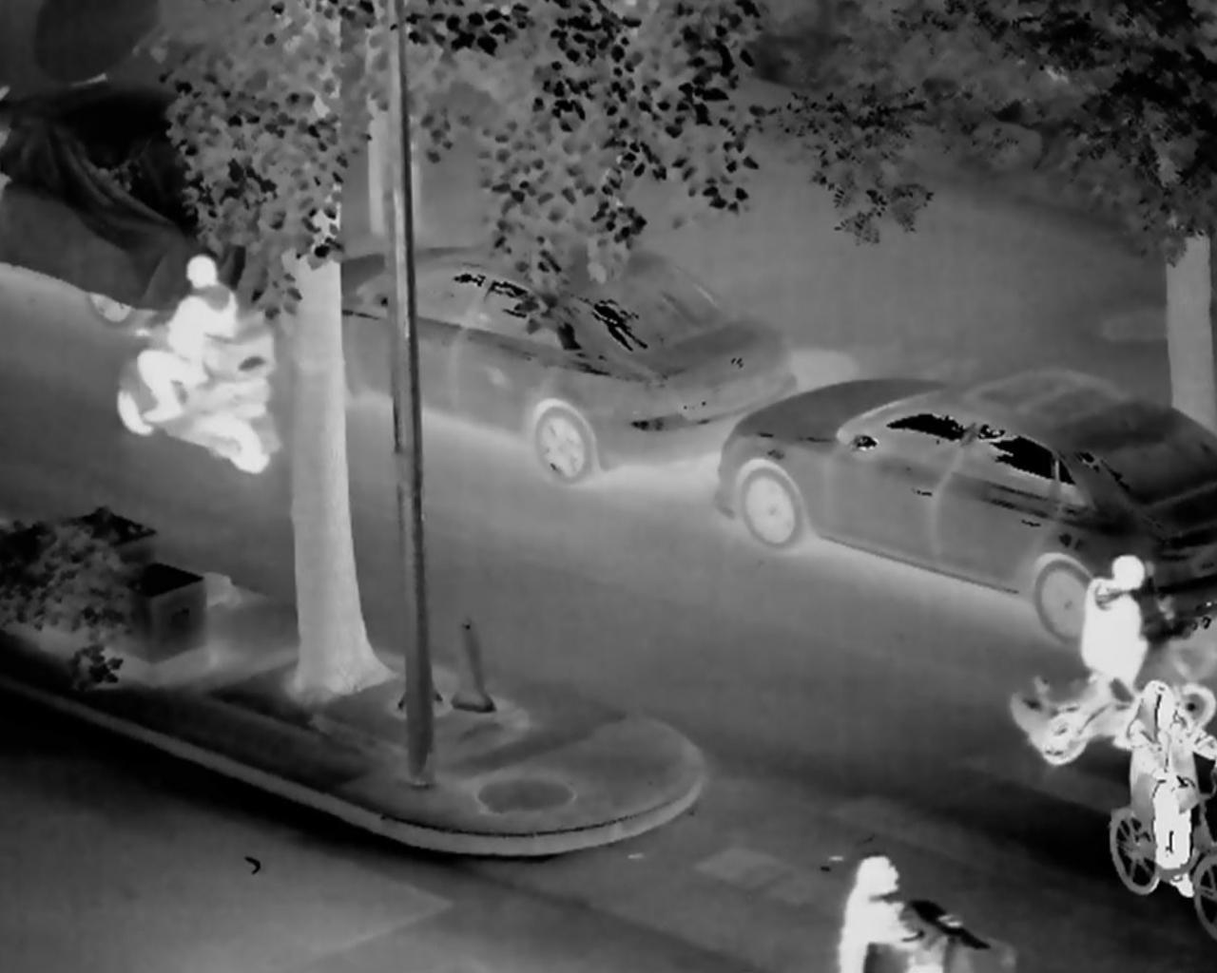person: (1094, 681, 1211, 915), (132, 254, 277, 437), (797, 849, 1008, 973), (1074, 544, 1171, 753)
